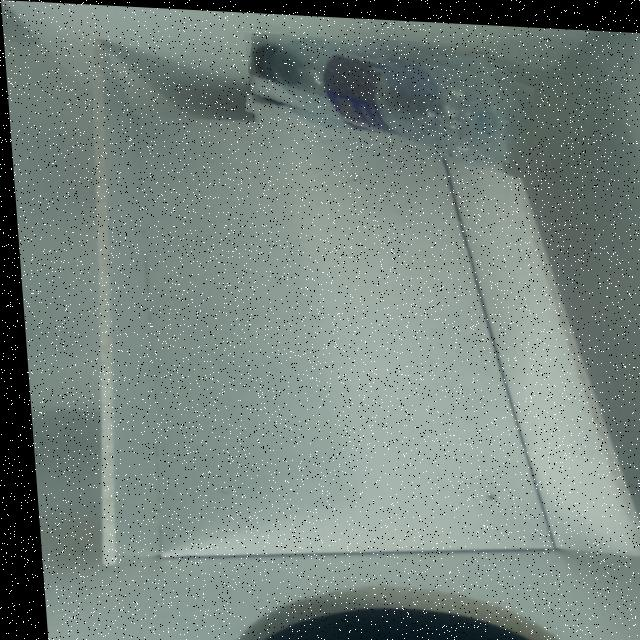litter: (241, 30, 534, 161)
